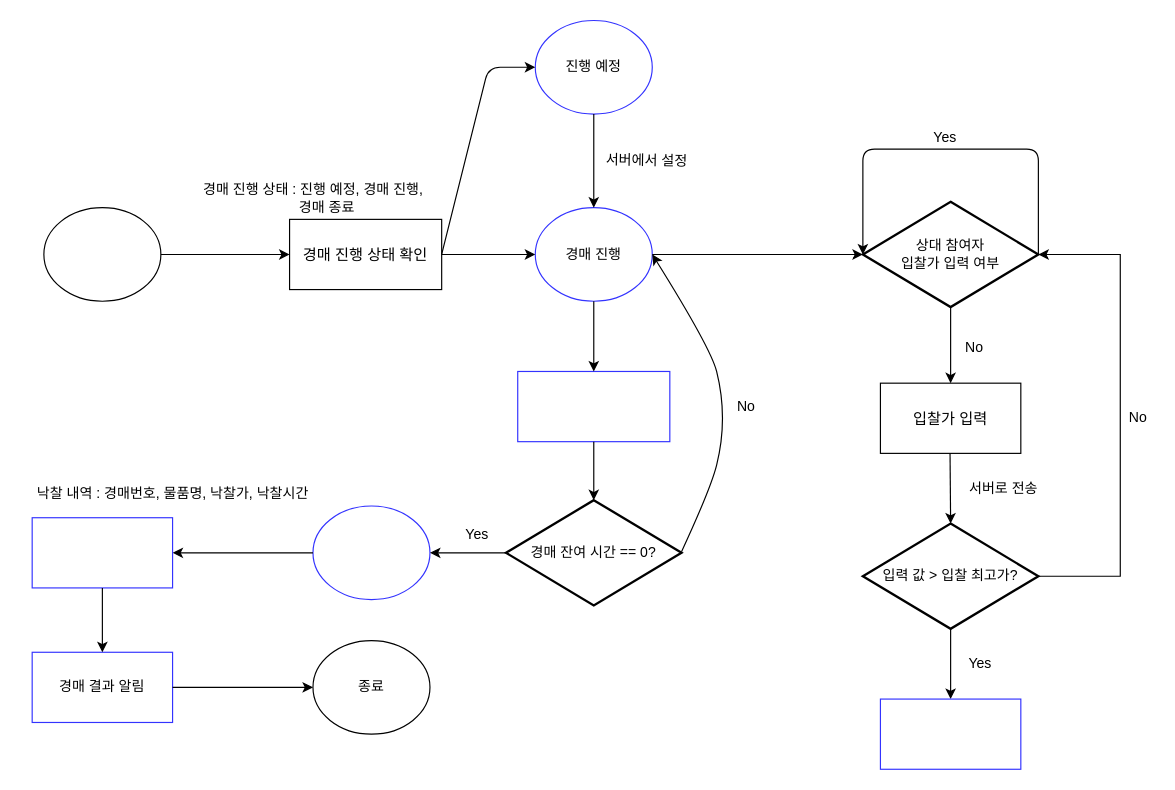
Image size: 1175x790. Some labels were removed from this diagram. Here are the shapes that lost their labels. From the top down, the centre of each, then its label:
At pixel 102 254: "시작".
At pixel 593 406: "경매 잔여 시간 갱신".
At pixel 102 552: "낙찰 내역 저장".
At pixel 371 552: "경매 종료".
At pixel 950 733: "입찰가 갱신".
